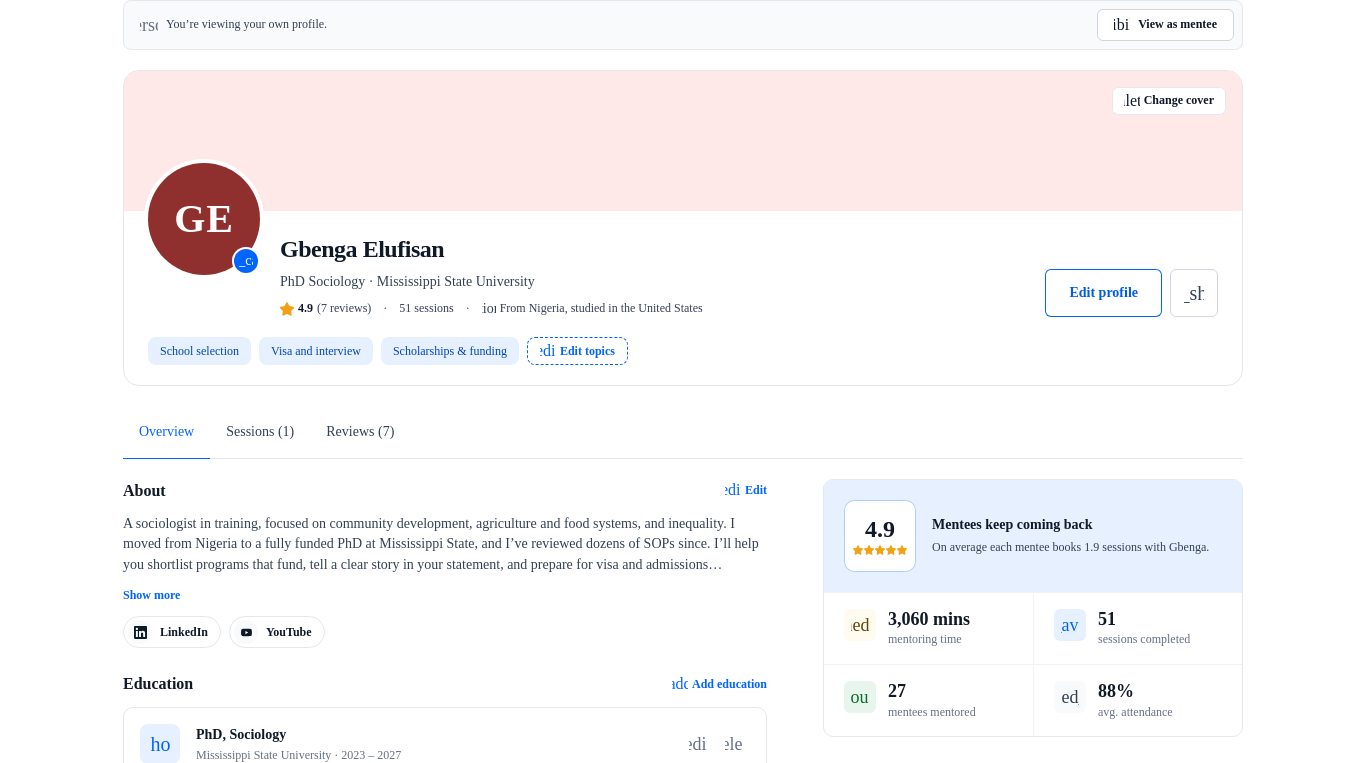
Scenario: MentorProfileScreen — "View as mentee" › offline, Book still reads as a mentee’s (review of PR 106)
Step 1. Click the button "visibility View as mentee" → (1166,25), box [1097, 9, 1234, 41]
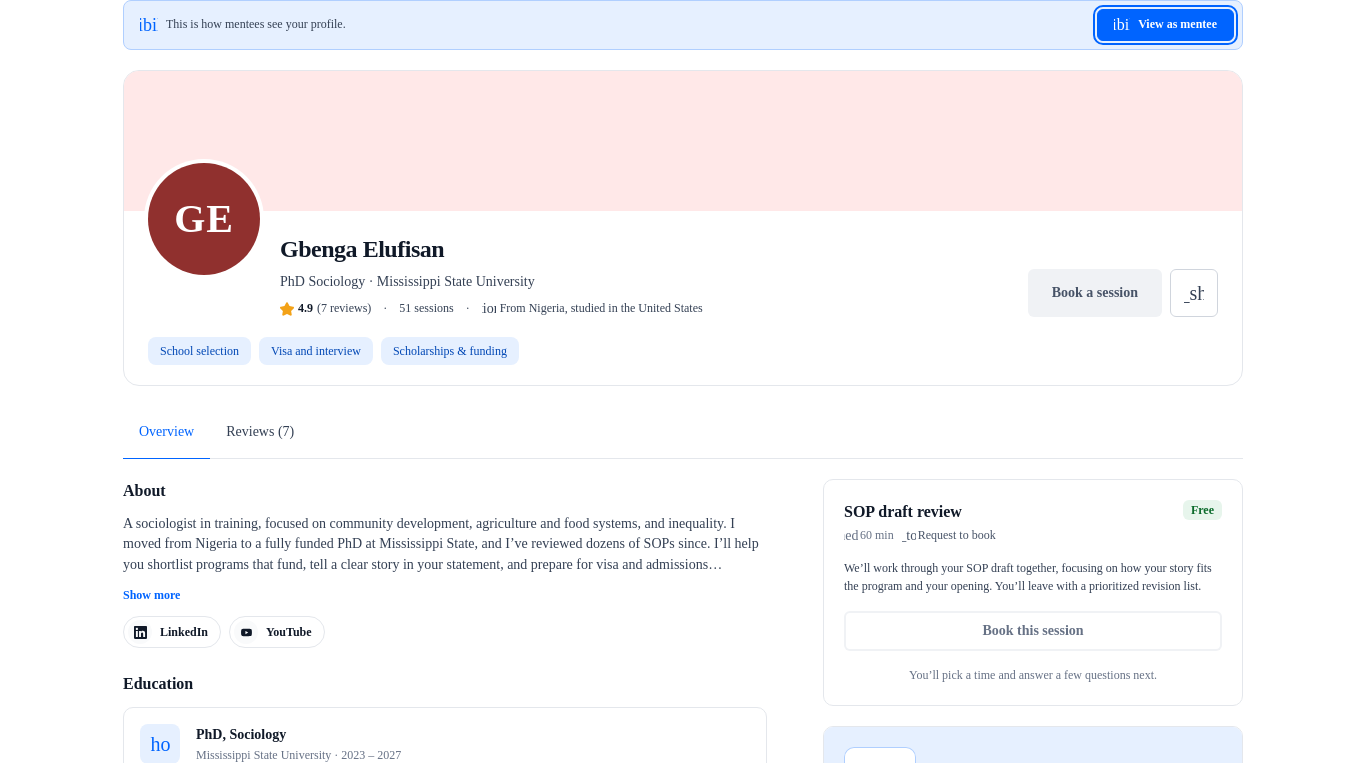
Check: the button "Book a session" is disabled, box [1028, 270, 1162, 318]
